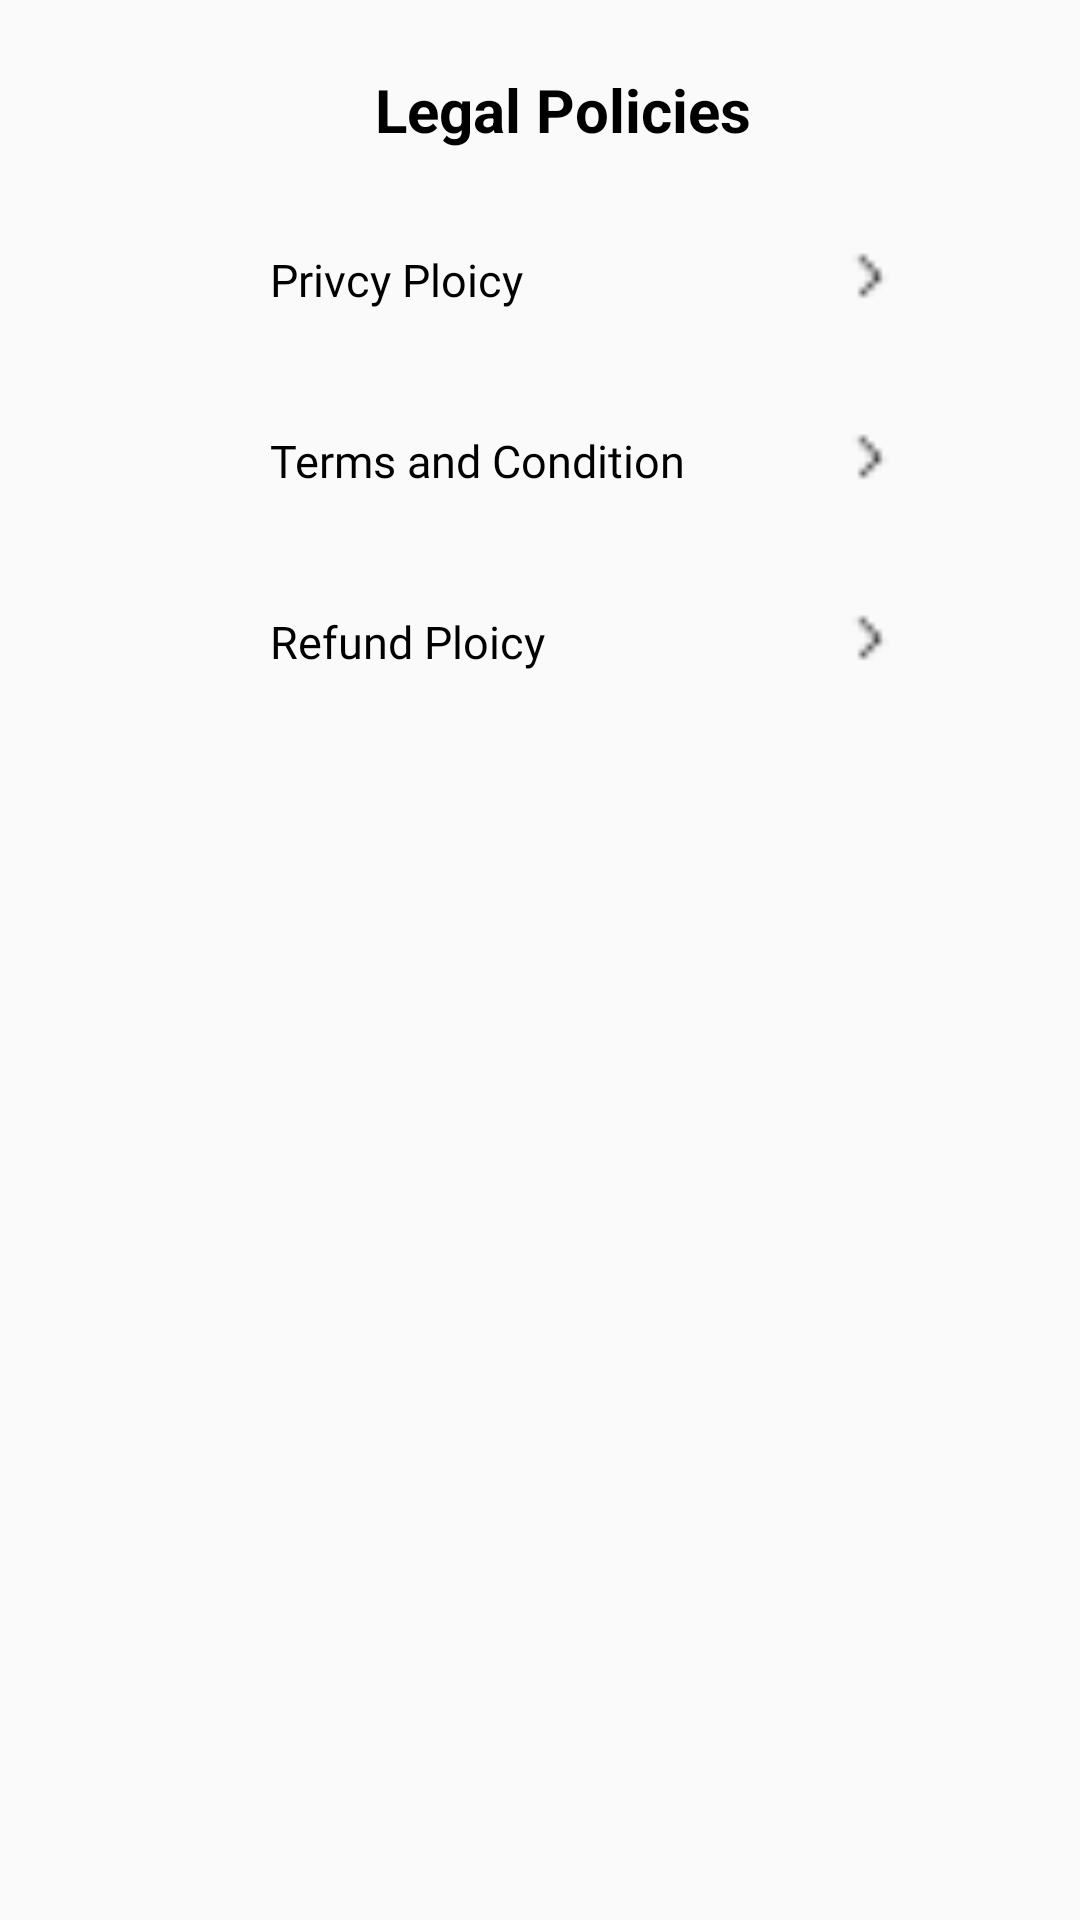

Named icons in this screenshot (1080px x 1920px) and their bounding boxes, {"left": x1, "top": y1, "right": x2, "bottom": y2}:
next arrow: {"left": 857, "top": 254, "right": 883, "bottom": 298}, {"left": 857, "top": 435, "right": 883, "bottom": 479}, {"left": 857, "top": 616, "right": 883, "bottom": 660}
